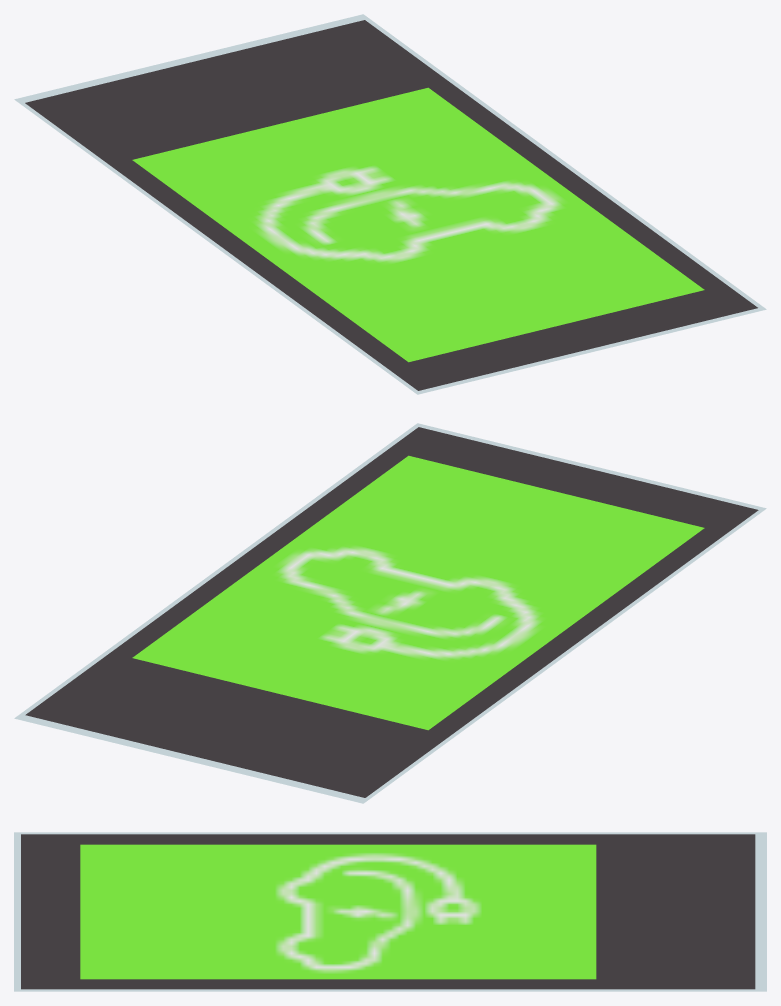
The model's file is SM_Park_Electric.fbx.
3 renders of one model, top to bottom at view 1: azimuth 30°, elevation 25°; view 2: azimuth 150°, elevation 25°; view 3: azimuth 270°, elevation 25°, orthographic. The views are drawn at different scales.
Parts seen in each view (by area): view 1: SM_Park_Electric; view 2: SM_Park_Electric; view 3: SM_Park_Electric.
Boxes of the visible parts, x1,y1,x2,y2 form: SM_Park_Electric: (14,14,766,394); SM_Park_Electric: (14,423,766,803); SM_Park_Electric: (14,832,766,991).
Size of the model in its own units: 400 by 800 by 0.000135.
Materials: 1 (1 with a texture image).
